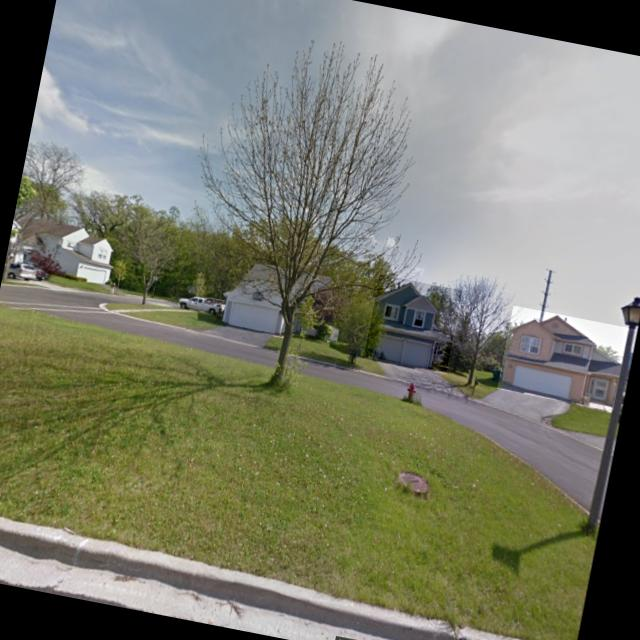House: (497, 306, 629, 412), (217, 252, 333, 342), (363, 274, 462, 372), (15, 212, 120, 288)
